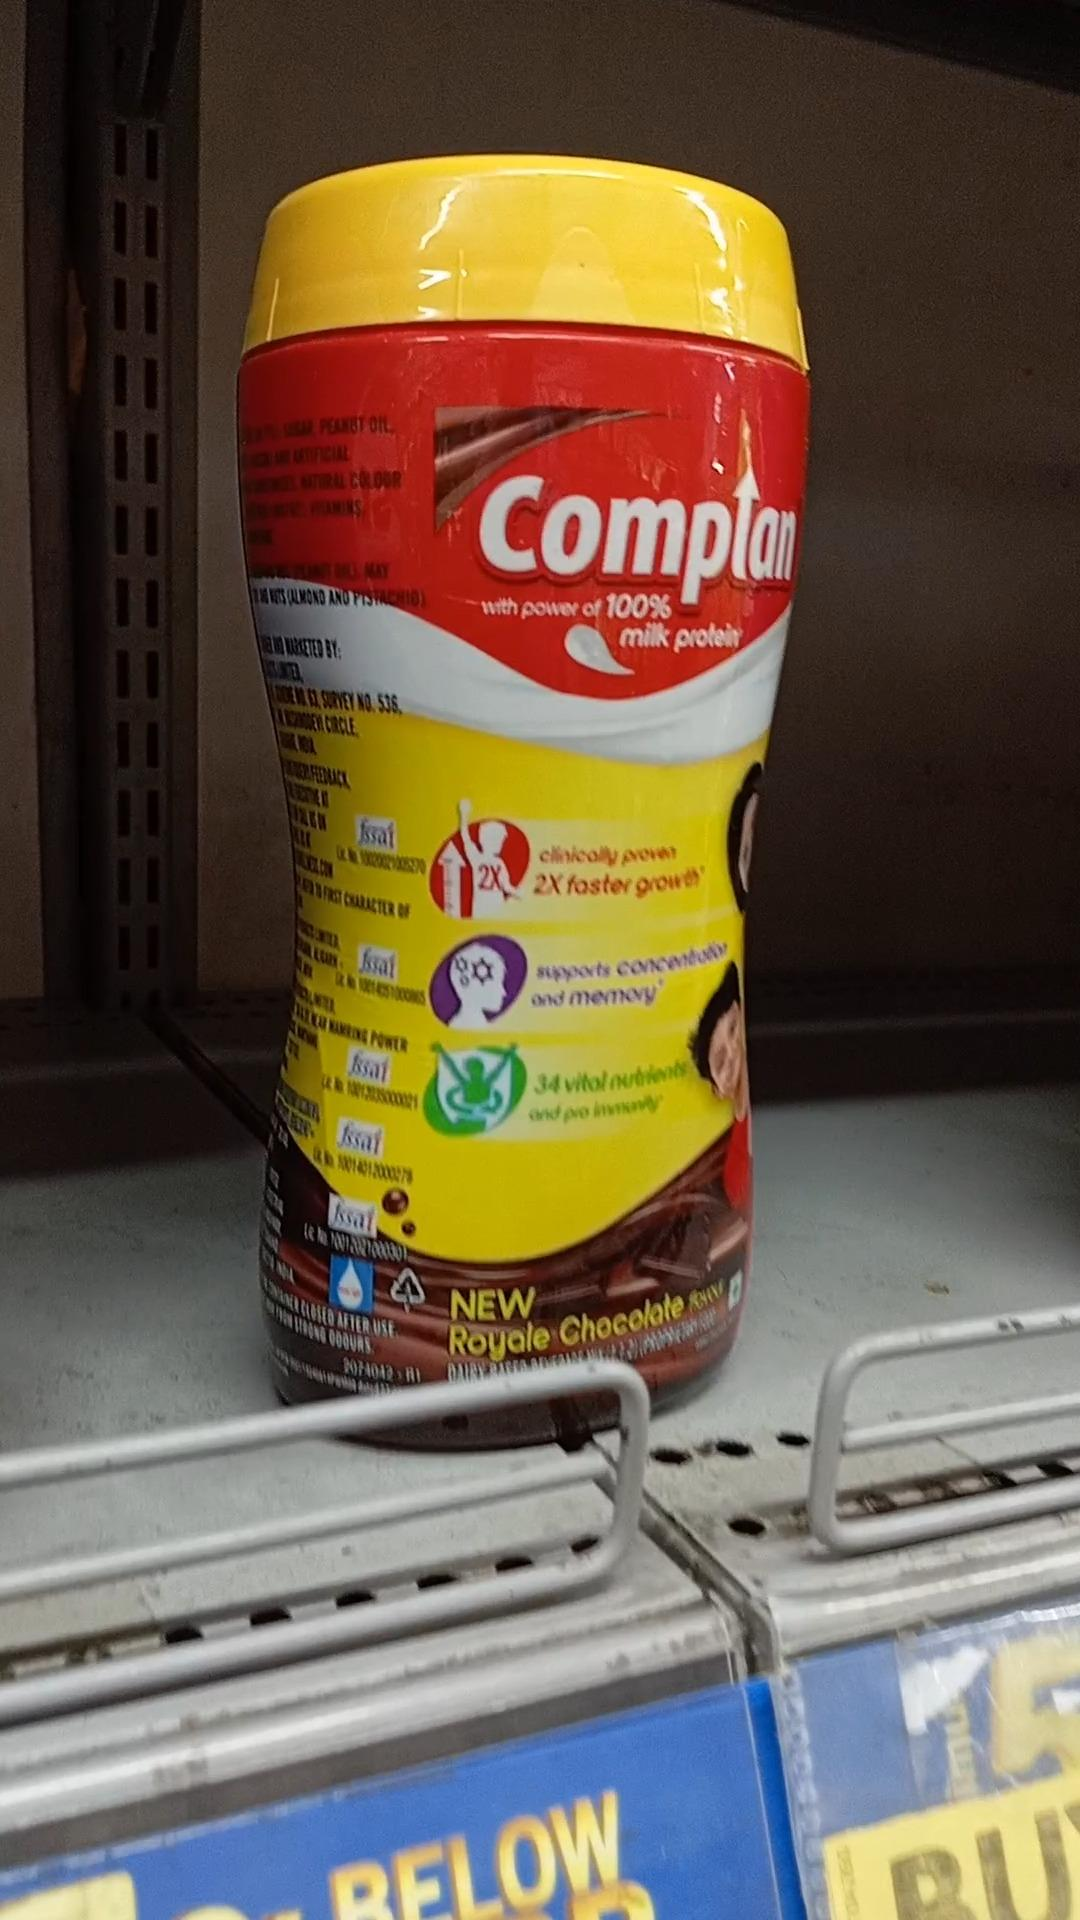COMPLAN_CHOCOLATE_500_GMS_JAR: (245, 153, 765, 1429)
